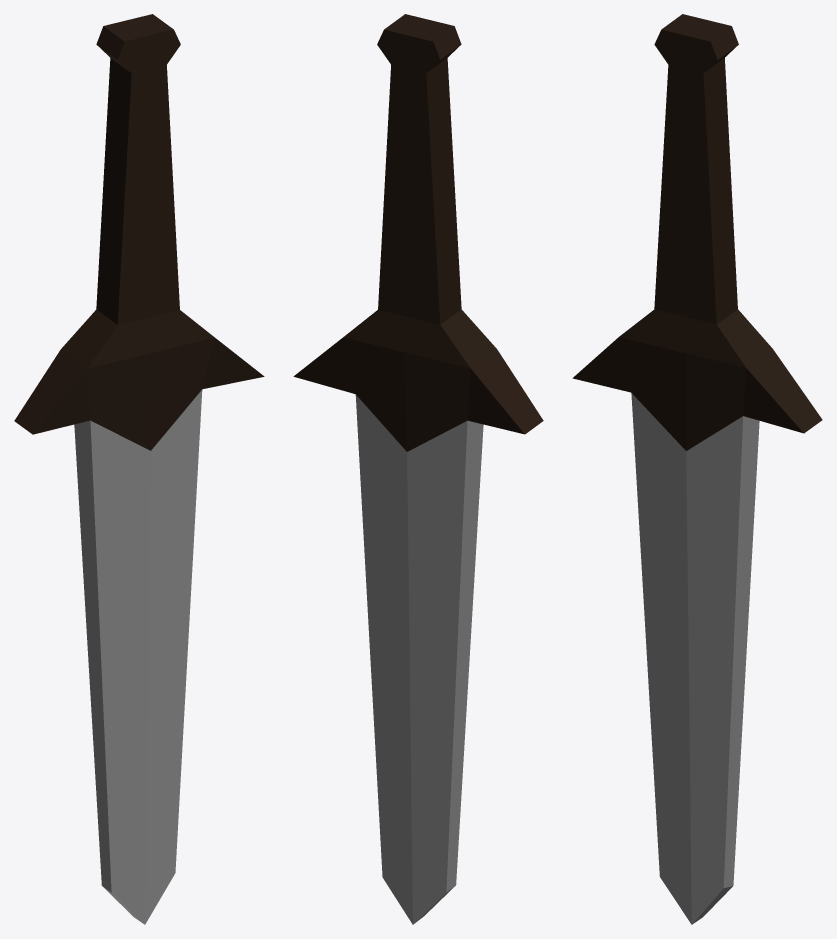
The model's file is sword.FBX.
3 views of the same model, side by side, from view 1: azimuth 30°, elevation 25°; view 2: azimuth 150°, elevation 25°; view 3: azimuth 330°, elevation 25° (orthographic).
Visible parts, largest first — view 1: Box001; view 2: Box001; view 3: Box001.
Part boxes in pixels (x1=…): Box001: x1=14, y1=14, x2=264, y2=924; Box001: x1=293, y1=14, x2=543, y2=924; Box001: x1=572, y1=14, x2=822, y2=924.
Size of the model in its own units: 21.57 by 79.42 by 4.26.
